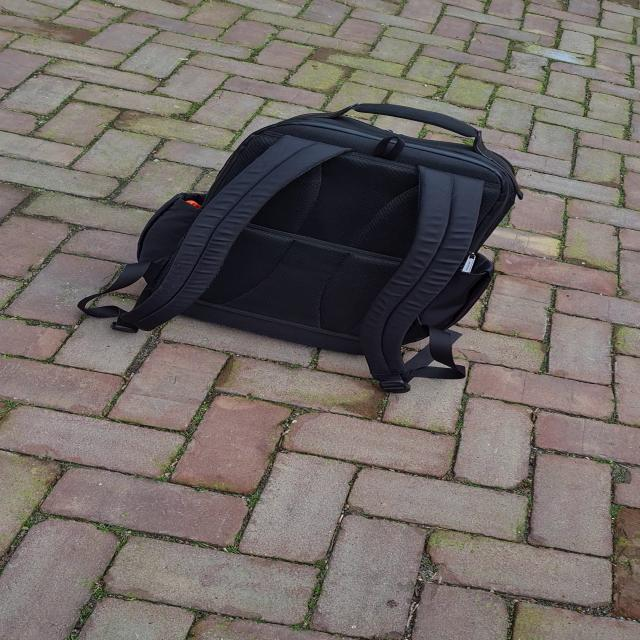backpack: (105, 98, 520, 391)
